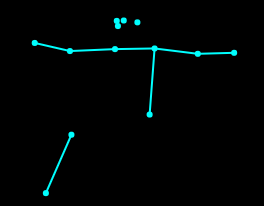warrior_2: (25, 13, 242, 198)
